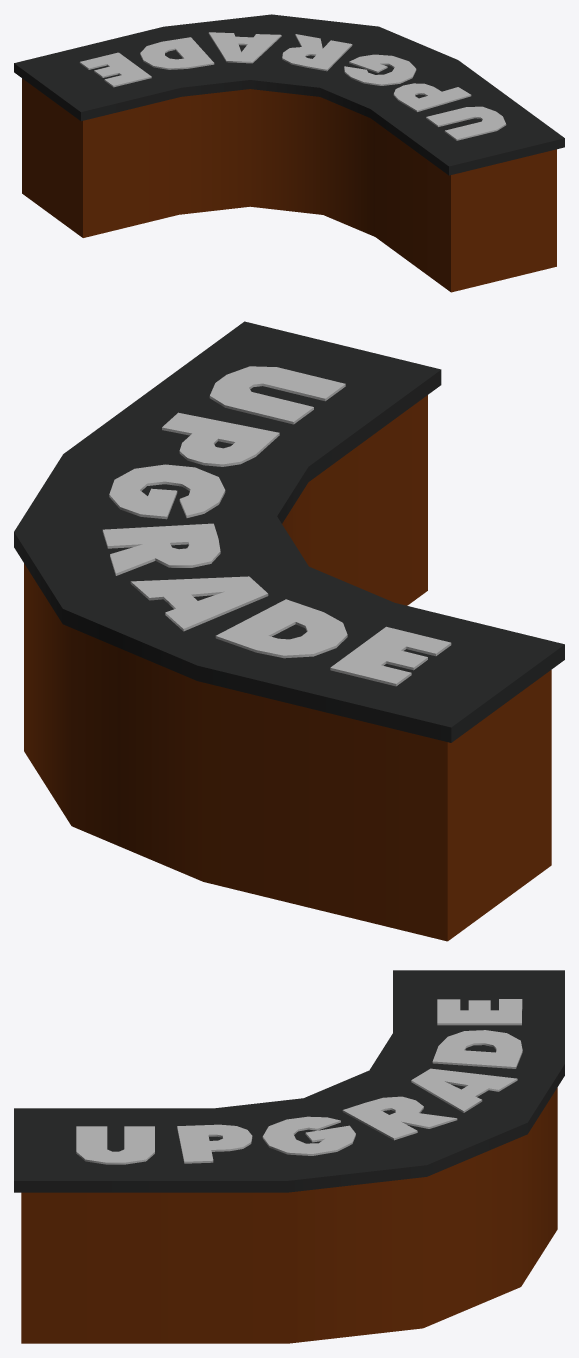
The model's file is ban_upgrade.fbx.
3 renders of one model, top to bottom at view 1: azimuth 30°, elevation 25°; view 2: azimuth 150°, elevation 25°; view 3: azimuth 270°, elevation 25°, orthographic. The views are drawn at different scales.
Visible parts, largest first — view 1: ban_upgrade; view 2: ban_upgrade; view 3: ban_upgrade.
Boxes of the visible parts, <box> form: ban_upgrade: <box>14,14,564,292</box>; ban_upgrade: <box>14,321,564,941</box>; ban_upgrade: <box>14,970,564,1343</box>.
Bounding box in the file's own units: 356 × 132 × 393.
